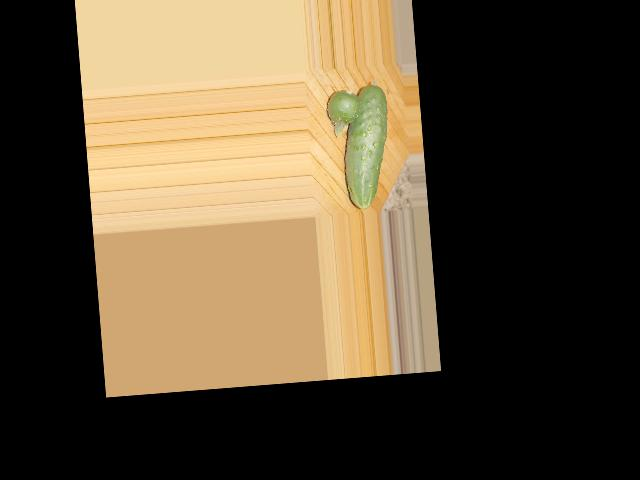cucumber: (338, 83, 394, 210)
